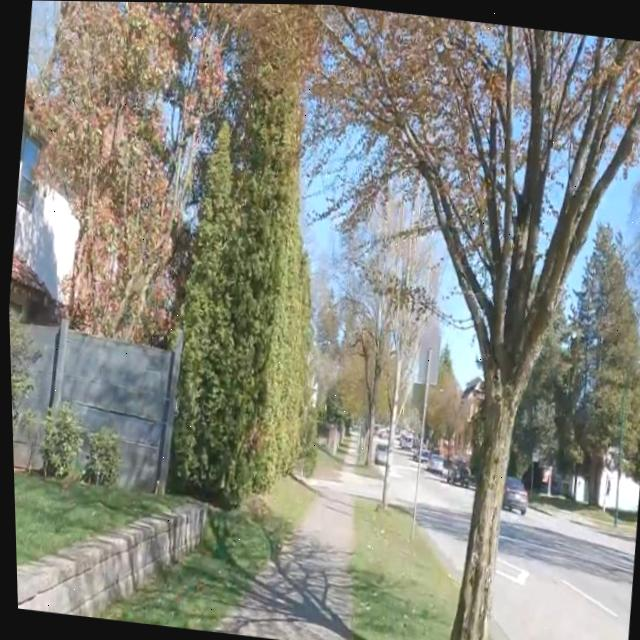Automobile: (498, 475, 524, 512), (444, 459, 470, 485), (422, 451, 439, 473), (370, 437, 384, 463)
Road: (488, 506, 632, 640), (415, 472, 468, 576), (414, 469, 469, 527), (310, 470, 374, 497), (387, 459, 412, 506), (432, 528, 461, 551), (499, 512, 529, 527), (549, 520, 570, 532)
Sidewalk: (210, 484, 349, 640)
